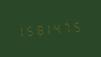eight: (35, 21, 43, 37)
five: (26, 22, 34, 38), (71, 18, 79, 34)
four: (53, 19, 61, 35)
one: (17, 22, 25, 39), (44, 20, 52, 36)
seven: (62, 18, 70, 35)
